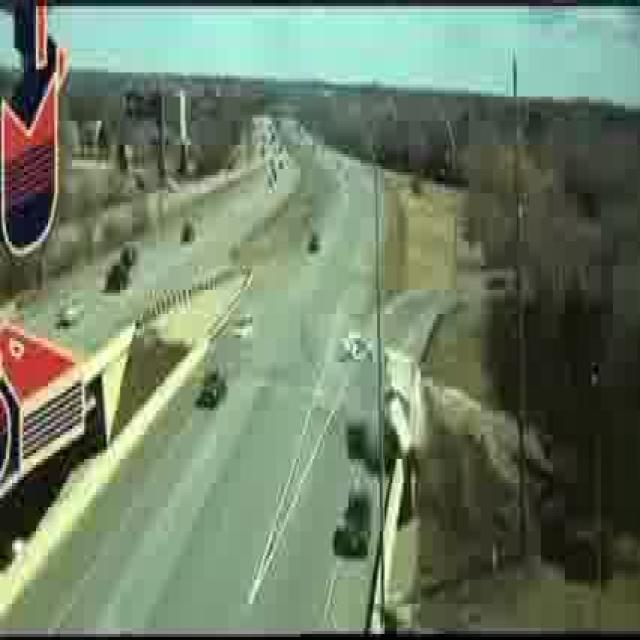multiple_accident: (373, 341, 418, 483)
